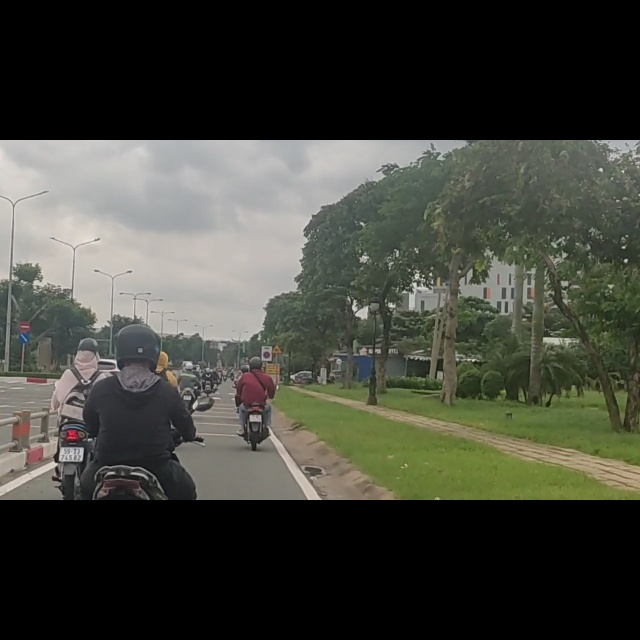bien_hieu_lenh: (19, 322, 31, 341), (272, 361, 283, 380), (19, 343, 30, 361), (263, 376, 271, 389)
